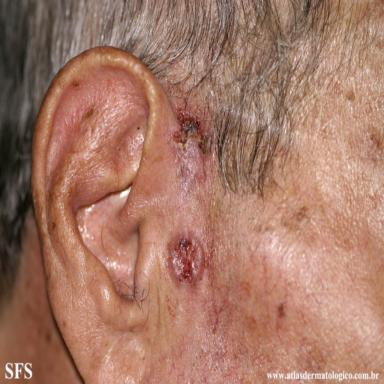basal-cell-carcinoma: (170, 108, 207, 193), (168, 234, 204, 283)
